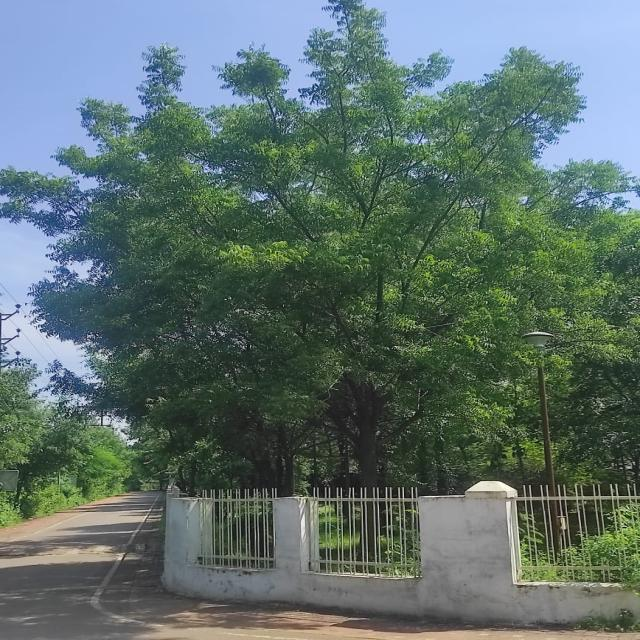Neem Tree: (79, 29, 573, 429)
